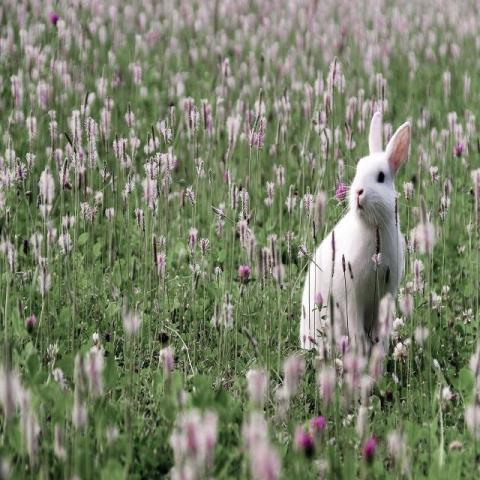small_animal: (297, 109, 413, 382)
